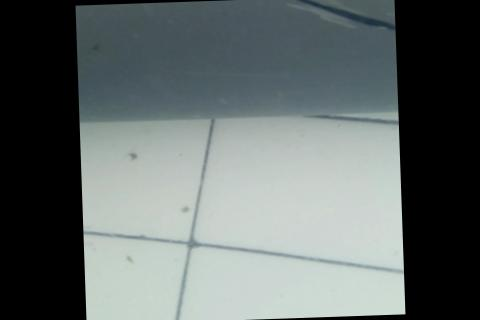keretakan: (257, 0, 394, 38)
